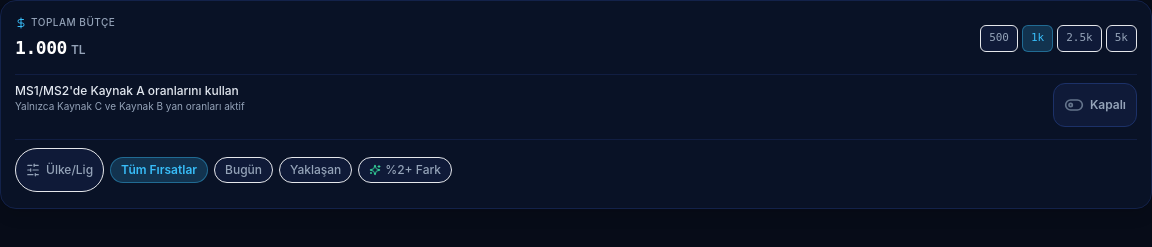
StickyControlBar budget editor › rejects invalid whole-TL budget 9
This screenshot has width=1152, height=247.
Click the text "1.000" at (41, 48), box [15,34,67,62]
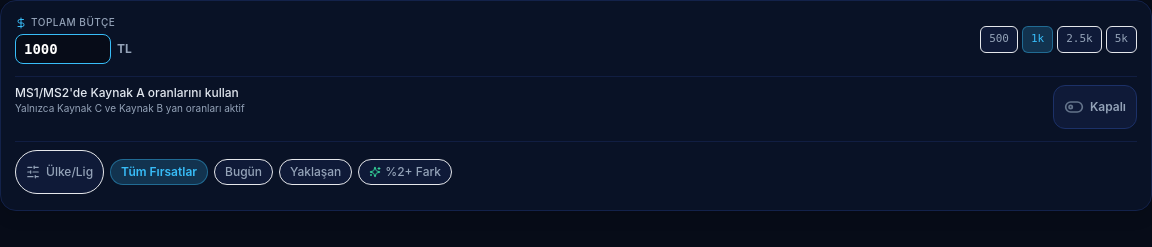
Replace the text in the field named "Toplam bütçe (TL)" with "9" at (63, 49), box [15,34,111,64]
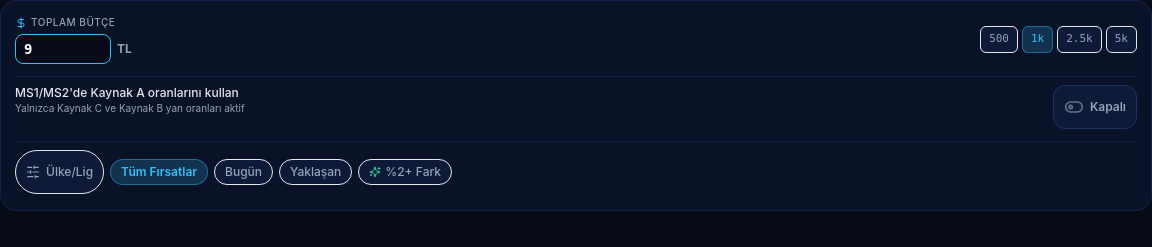
Submit the form named "Toplam bütçe (TL)", box [15,34,132,64]
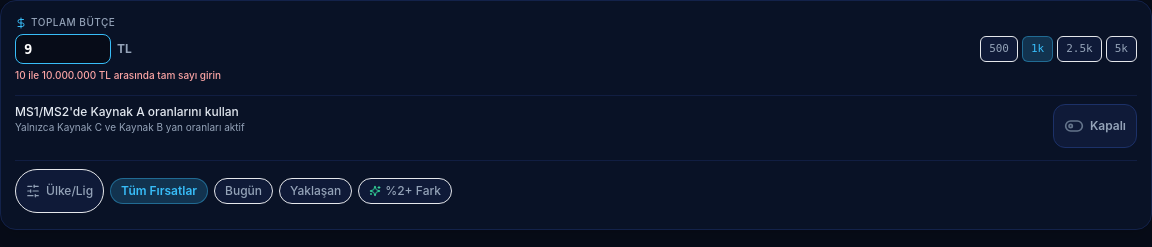
Check: the message reads "10 ile 10.000.000 TL arasında tam sayı girin", box [15,69,221,81]
